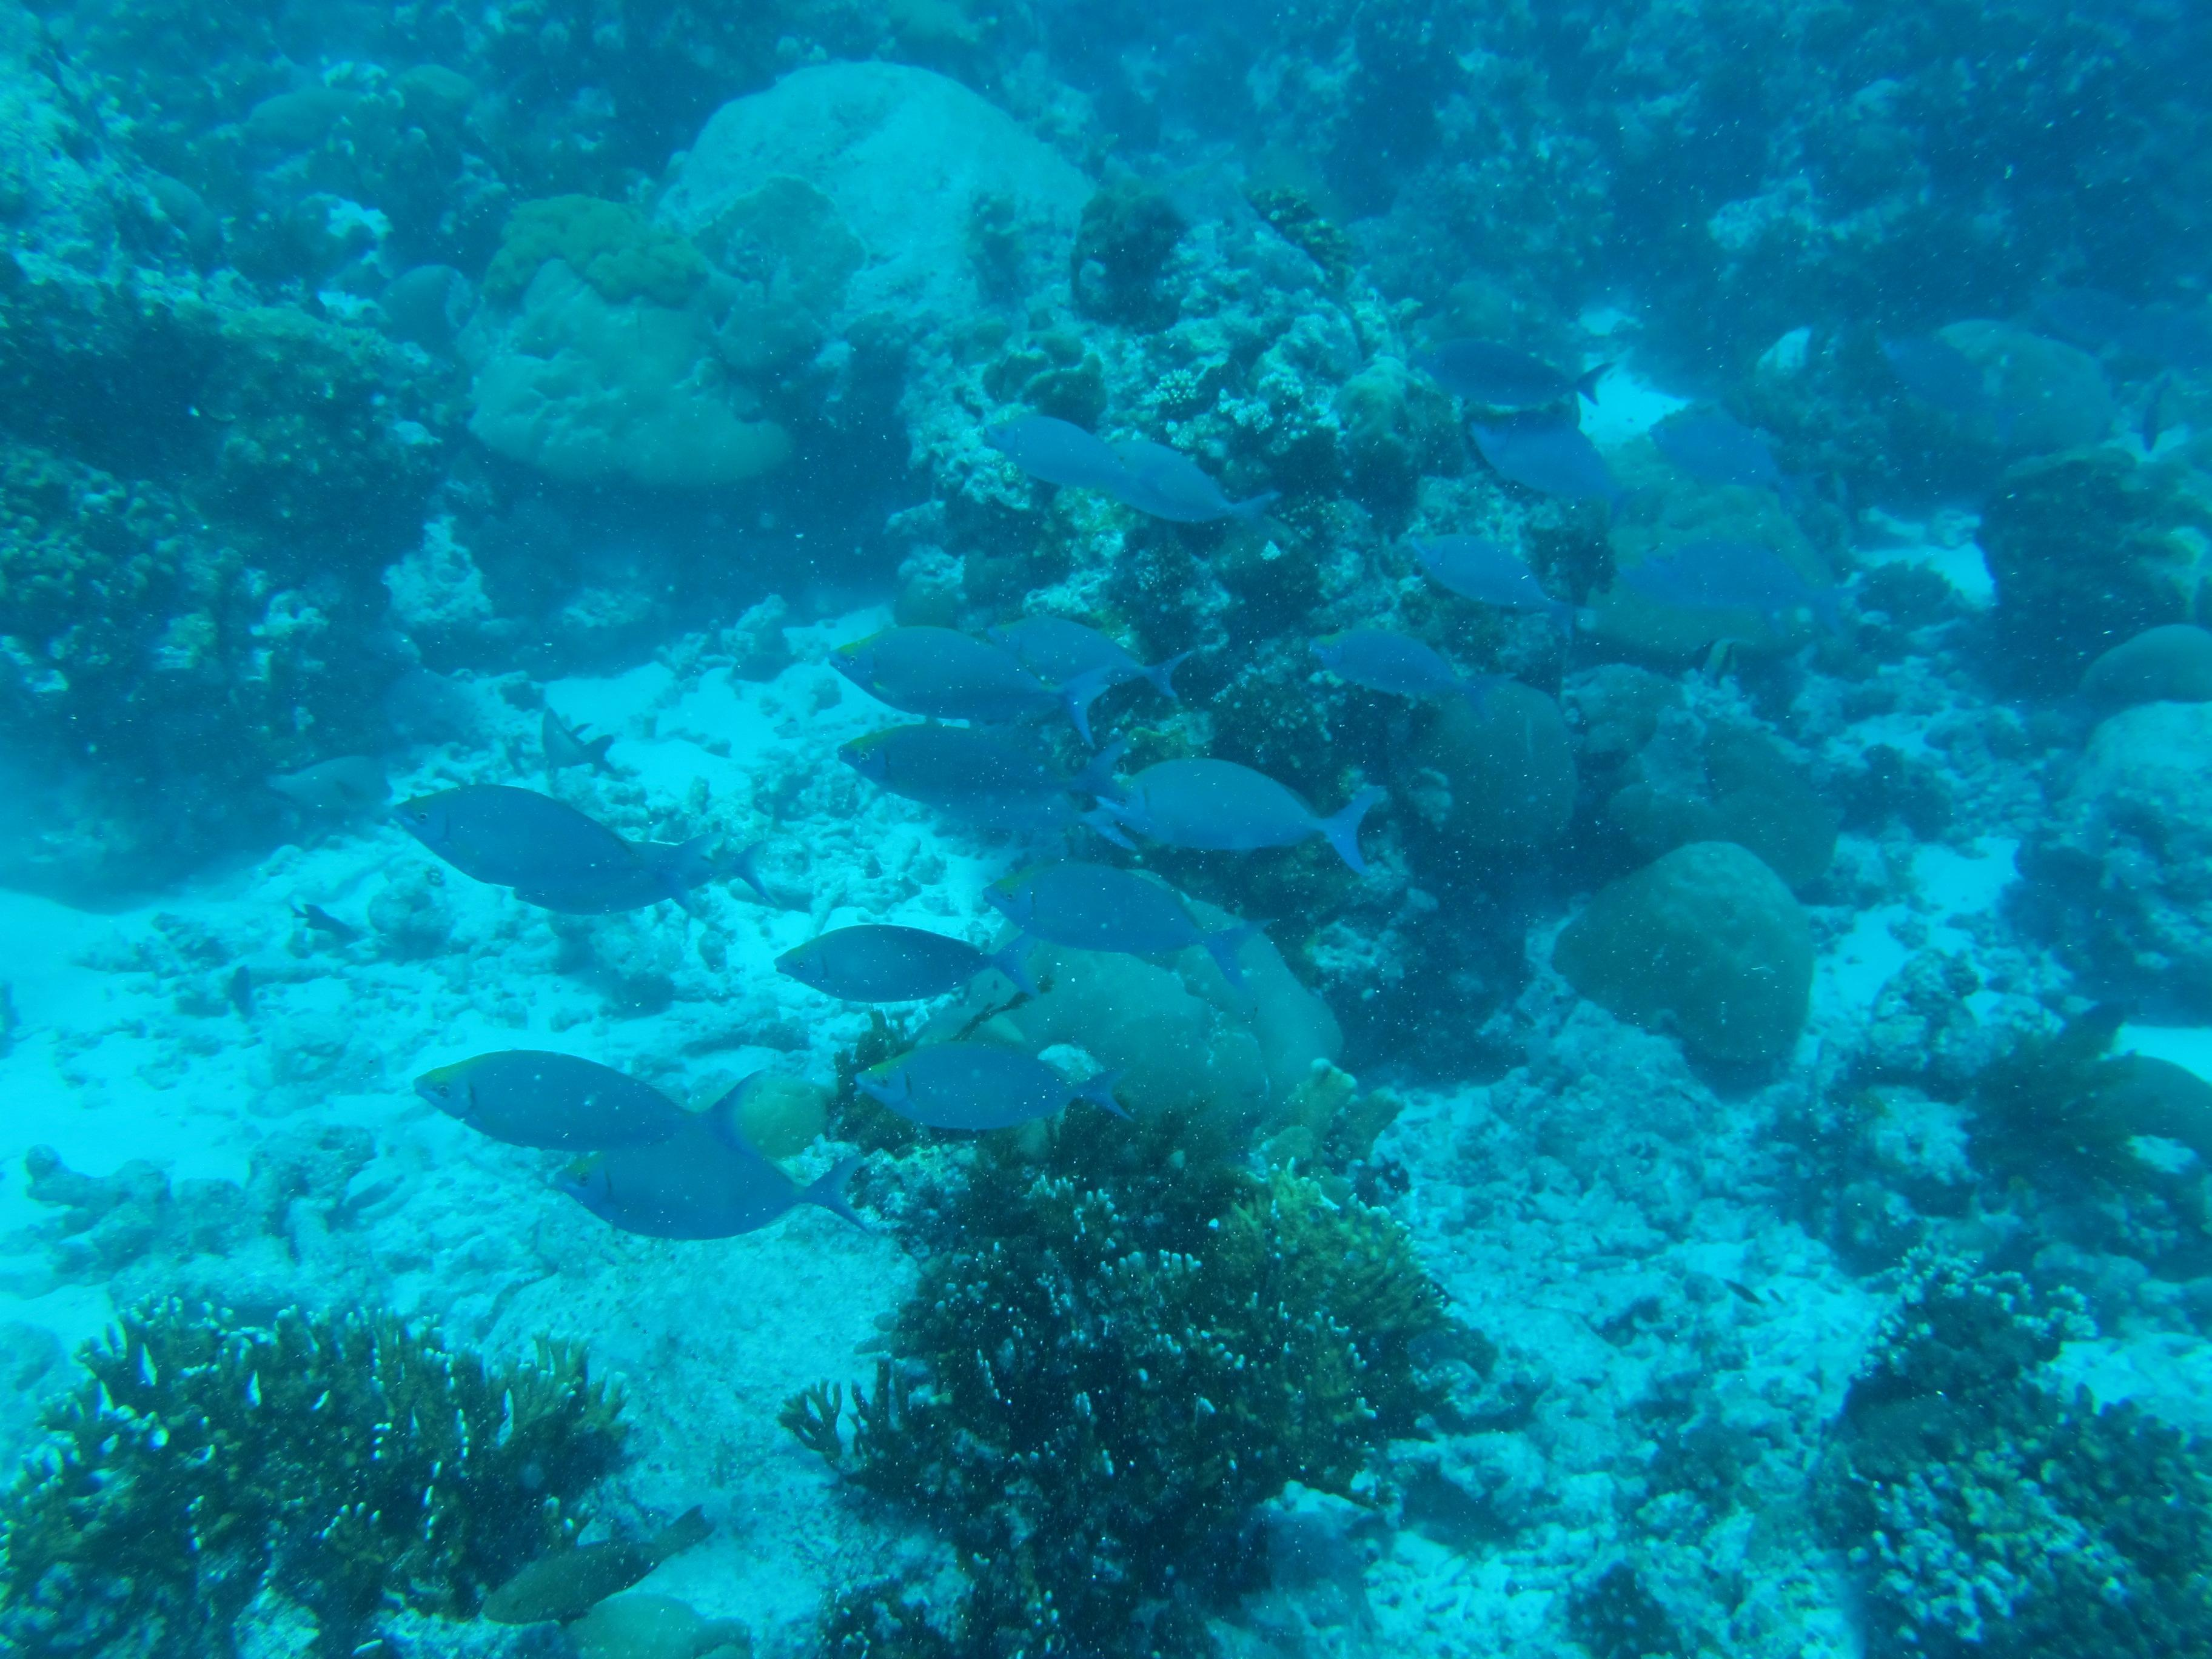Fish: (369, 786, 716, 924), (542, 1134, 887, 1269), (972, 854, 1275, 992), (829, 1028, 1137, 1143), (1273, 594, 1514, 739), (833, 725, 1134, 838), (763, 917, 1059, 1023), (820, 626, 1092, 725), (941, 390, 1141, 509), (1392, 310, 1601, 404)
